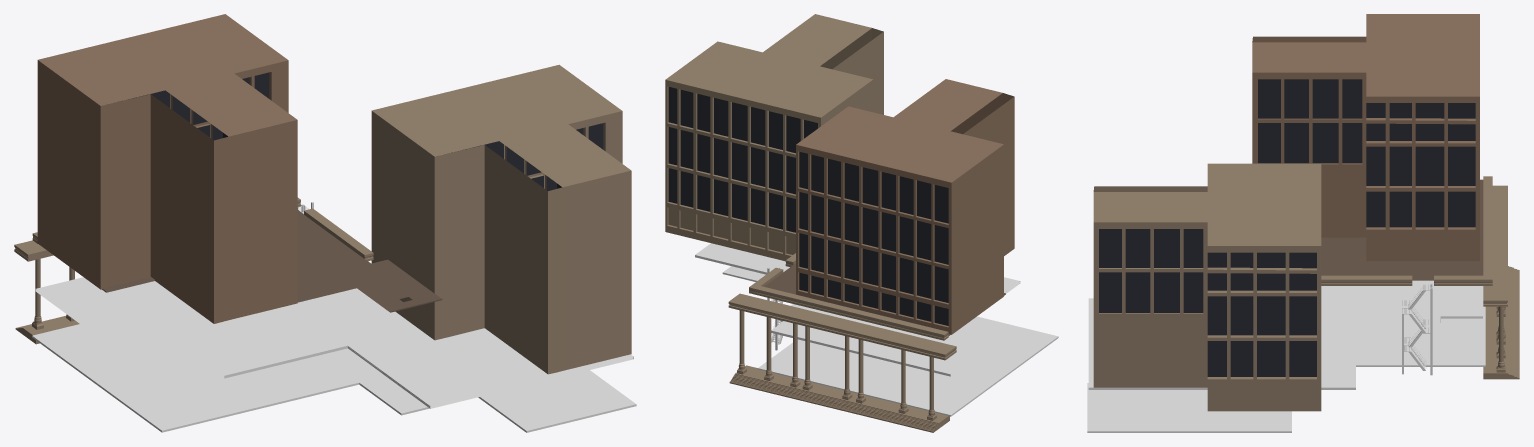
Rendered from BankFacade.fbx.
3 views of the same model, side by side, from view 1: azimuth 30°, elevation 25°; view 2: azimuth 150°, elevation 25°; view 3: azimuth 270°, elevation 25° (orthographic). The views are drawn at different scales.
Parts seen in each view (by area): view 1: Cube.449, Cube.451, Top Floor Tiles, GroundFloorTiles, FinalRoof, BankFacade, Ground Floor CEILING.002; view 2: Cube.449, Cube.451, BankFacade, GroundFloorTiles, Top Floor Tiles, Ground Floor CEILING.002, FinalRoof; view 3: Cube.451, Cube.449, GroundFloorTiles, Top Floor Tiles, BankFacade, FinalRoof, Cube.456, Ground Floor CEILING.002.
Boxes of the visible parts, box(x1,y1,x2,y2) form: Cube.449: box(37, 14, 297, 323); Cube.451: box(371, 64, 631, 374); Top Floor Tiles: box(35, 277, 633, 407); GroundFloorTiles: box(32, 324, 636, 432); FinalRoof: box(37, 210, 442, 311); BankFacade: box(14, 197, 373, 344); Ground Floor CEILING.002: box(35, 289, 633, 408); Cube.449: box(796, 79, 1014, 334); Cube.451: box(665, 14, 883, 261); BankFacade: box(728, 253, 956, 432); GroundFloorTiles: box(722, 266, 1058, 416); Top Floor Tiles: box(695, 243, 1020, 375); Ground Floor CEILING.002: box(695, 256, 1020, 376); FinalRoof: box(764, 263, 1005, 335); Cube.451: box(1093, 163, 1321, 411); Cube.449: box(1252, 14, 1479, 261); GroundFloorTiles: box(1087, 286, 1485, 432); Top Floor Tiles: box(1088, 280, 1482, 388); BankFacade: box(1321, 176, 1519, 379); FinalRoof: box(1321, 179, 1483, 279); Cube.456: box(1402, 281, 1432, 375); Ground Floor CEILING.002: box(1088, 317, 1482, 389).
Bounding box in the file's own units: 923 × 572 × 870.
